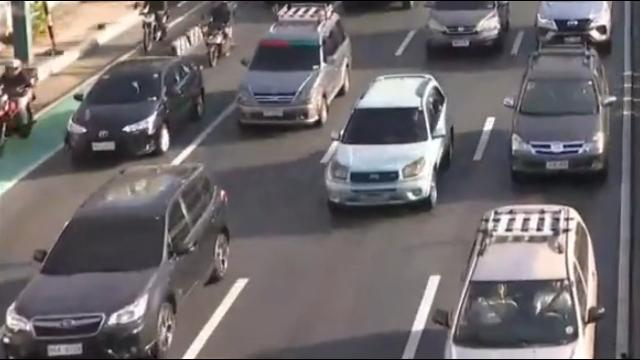car: (0, 167, 232, 360), (438, 204, 608, 360), (325, 74, 456, 211), (63, 57, 209, 166), (507, 46, 614, 178), (238, 9, 353, 127), (426, 0, 512, 55), (532, 0, 615, 52)
motorcycle: (0, 58, 36, 155), (203, 3, 235, 69), (139, 1, 171, 54)
